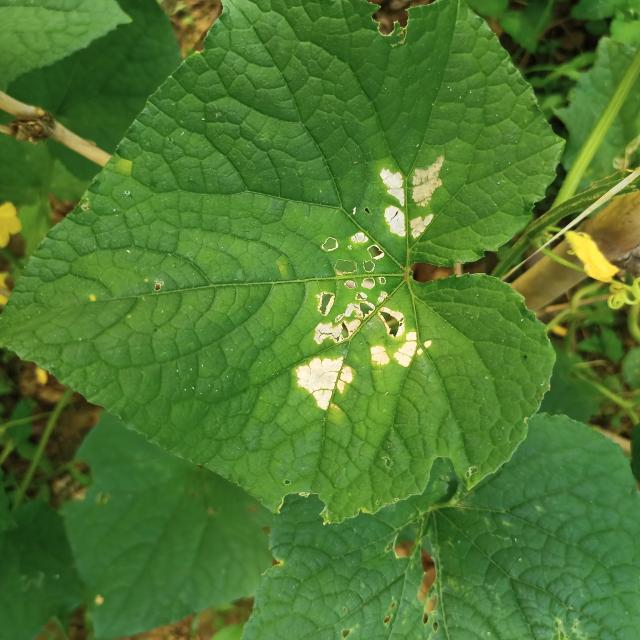disease_cucumber: (290, 228, 442, 415), (372, 160, 459, 247)
